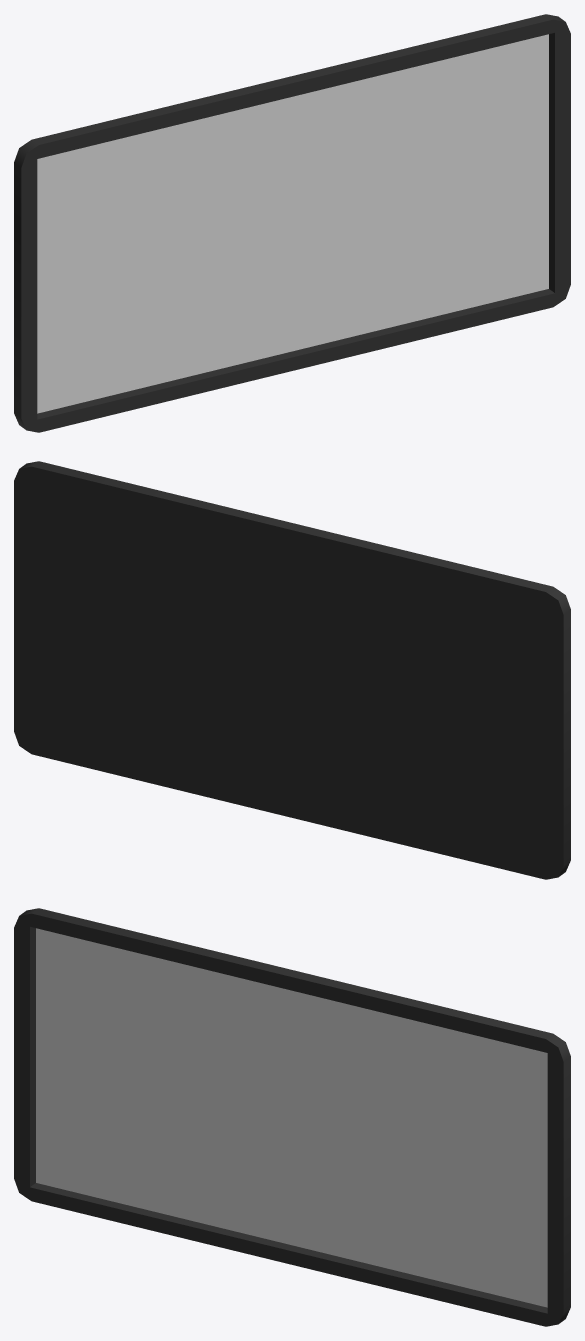
File: Hea_Player_Pinwall.fbx
3 renders of one model, top to bottom at view 1: azimuth 30°, elevation 25°; view 2: azimuth 150°, elevation 25°; view 3: azimuth 330°, elevation 25°, orthographic.
Visible parts, largest first — view 1: Office_Pinwall; view 2: Office_Pinwall; view 3: Office_Pinwall.
Boxes of the visible parts, <box> form: Office_Pinwall: <box>14,14,570,432</box>; Office_Pinwall: <box>14,461,570,879</box>; Office_Pinwall: <box>14,908,570,1326</box>.
Bounding box in the file's own units: 200 × 100 × 4.65.
